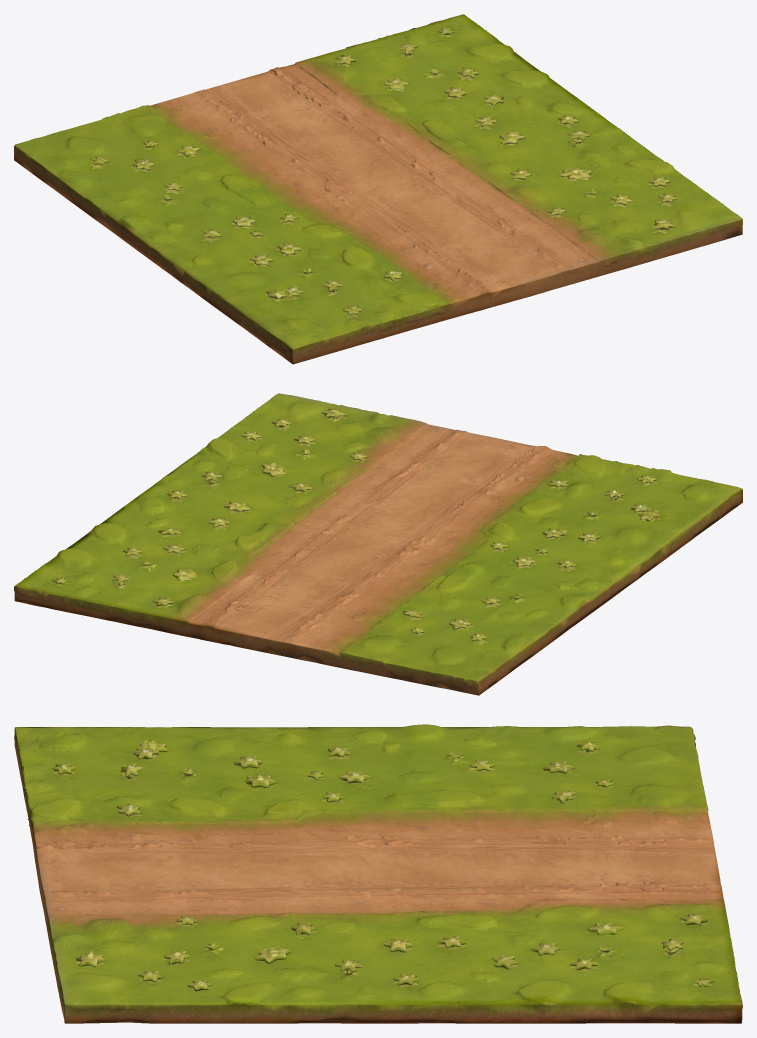
The picture shows the model from 3 angles, top to bottom: view 1: azimuth 30°, elevation 25°; view 2: azimuth 150°, elevation 25°; view 3: azimuth 270°, elevation 25°; orthographic projection. The views are drawn at different scales.
Visible parts, largest first — view 1: tripo_node_581242ab-1f69-4b36-9b5e-0ce167406ba5; view 2: tripo_node_581242ab-1f69-4b36-9b5e-0ce167406ba5; view 3: tripo_node_581242ab-1f69-4b36-9b5e-0ce167406ba5.
Part boxes in pixels (left/top/right/bottom): tripo_node_581242ab-1f69-4b36-9b5e-0ce167406ba5: left=14, top=14, right=742, bottom=364; tripo_node_581242ab-1f69-4b36-9b5e-0ce167406ba5: left=14, top=393, right=742, bottom=695; tripo_node_581242ab-1f69-4b36-9b5e-0ce167406ba5: left=14, top=724, right=742, bottom=1023.
Size of the model in its own units: 0.9074 by 0.0547 by 1.
1 material, 1 textured.
